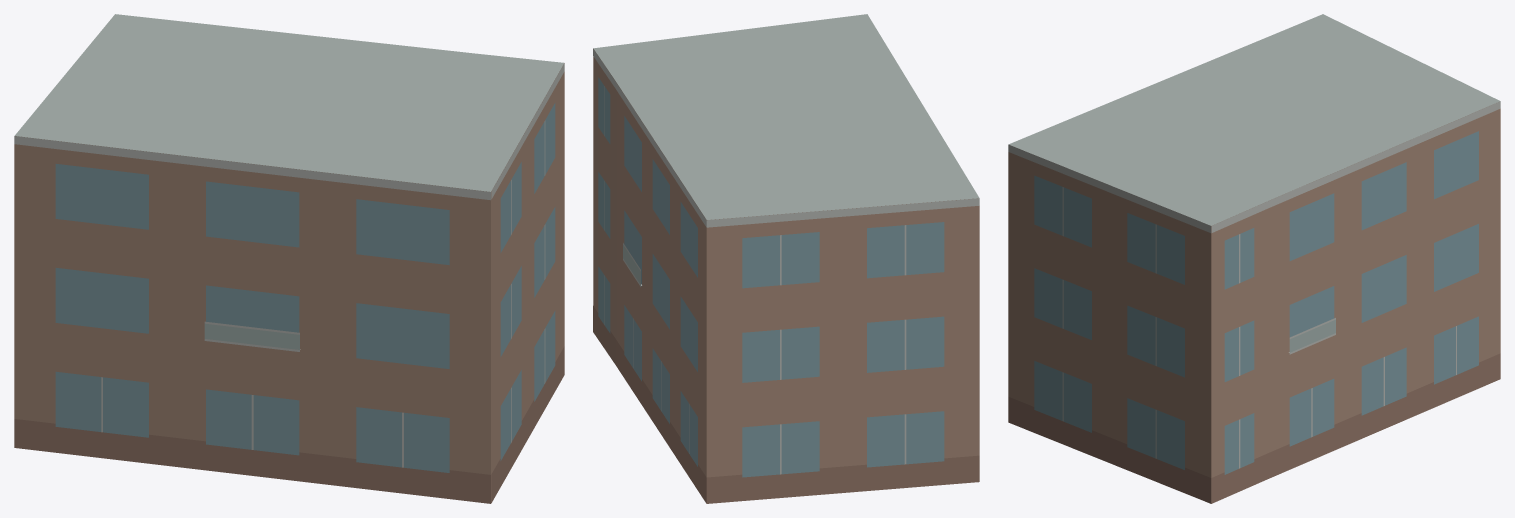
File: survey-upis-32497821.glb
3 views of the same model, side by side, from view 1: azimuth 30°, elevation 25°; view 2: azimuth 150°, elevation 25°; view 3: azimuth 270°, elevation 25° (orthographic). The views are drawn at different scales.
Visible parts, largest first — view 1: survey-upis-32497821.tmp; view 2: survey-upis-32497821.tmp; view 3: survey-upis-32497821.tmp.
Part boxes in pixels (<box>): survey-upis-32497821.tmp: <box>14,14,564,503</box>; survey-upis-32497821.tmp: <box>593,14,979,503</box>; survey-upis-32497821.tmp: <box>1008,14,1500,503</box>.
Size of the model in its own units: 14.97 by 9.15 by 14.7.
